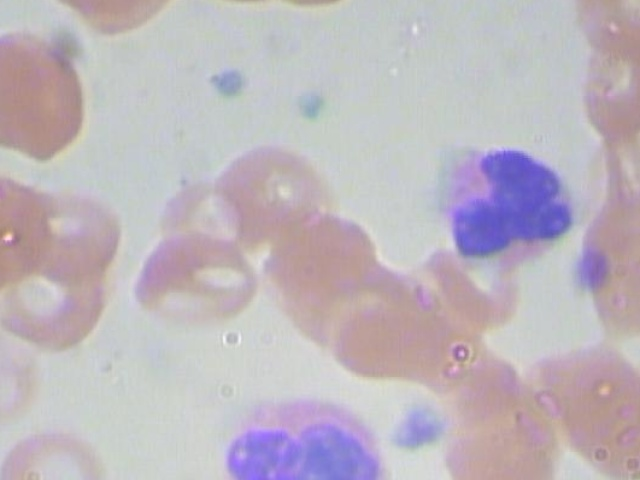Platelets: (384, 400, 455, 455), (284, 80, 332, 132), (565, 243, 613, 294), (205, 57, 252, 108)
RBC: (124, 221, 269, 341), (0, 22, 102, 168), (255, 201, 383, 317), (315, 263, 443, 379), (218, 133, 345, 249), (518, 330, 640, 445), (0, 176, 128, 281), (0, 251, 116, 356), (434, 402, 561, 480), (149, 180, 255, 271), (565, 27, 640, 140), (561, 373, 640, 480), (0, 327, 75, 429), (0, 418, 119, 480), (29, 0, 199, 39), (573, 0, 640, 71), (630, 242, 640, 389), (634, 30, 640, 143)
WBC: (418, 121, 592, 276), (217, 380, 399, 480)
